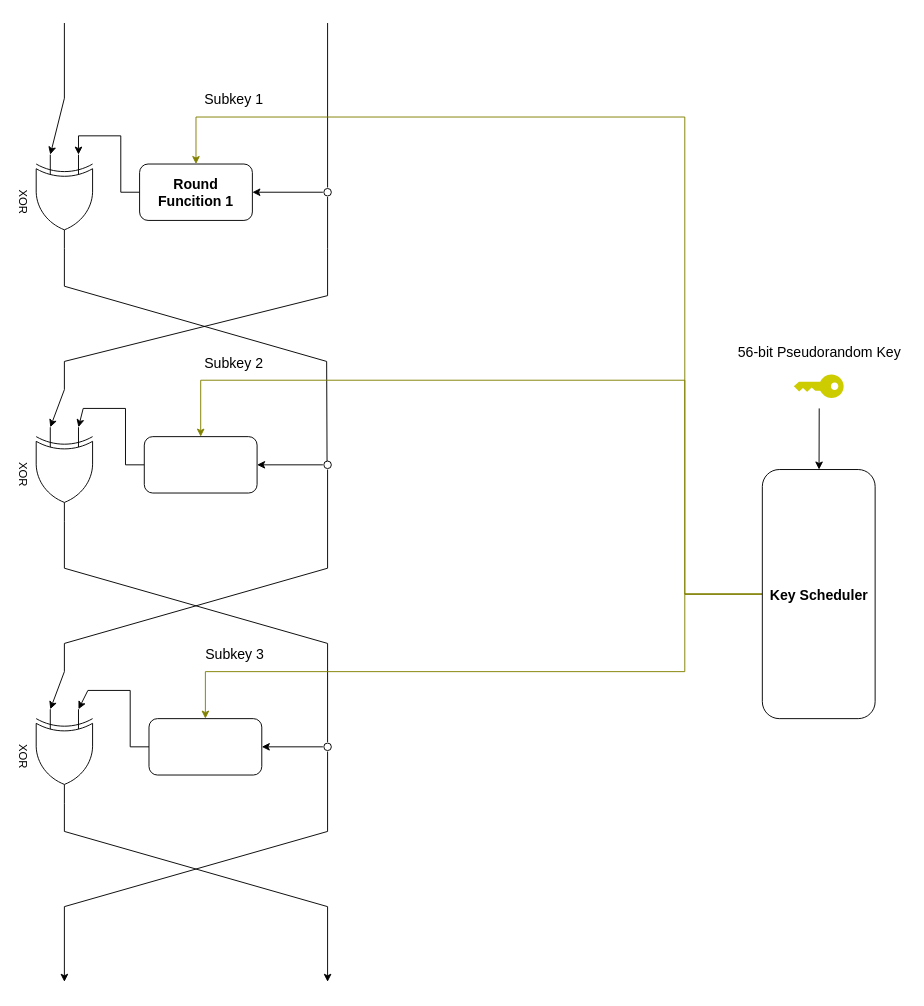
Some shapes in this 924 by 1006 pixel diagram are drawn without their labels. The shapes that lost their labels are listed below. From the top down, each one's centre as x and y in pixels, then its label:
At [200,464]: "Round Funcition 2".
At [205,746]: "Round Funcition 3".
